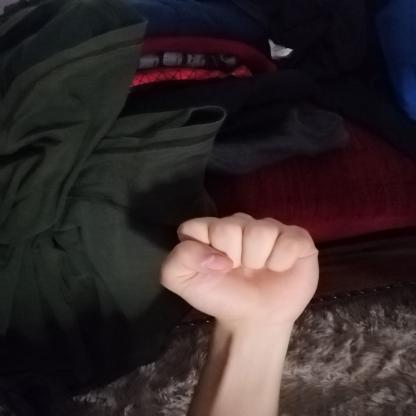SAD: (134, 199, 348, 341)
